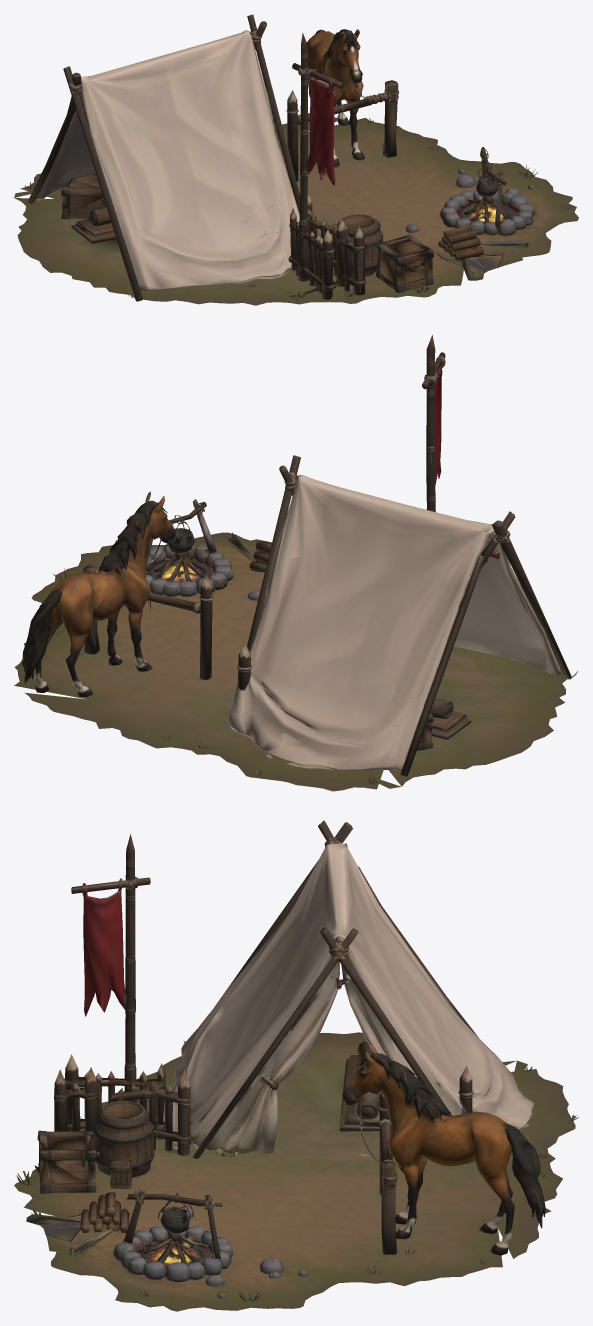
Rendered from camp.glb.
3 renders of one model, top to bottom at view 1: azimuth 30°, elevation 25°; view 2: azimuth 150°, elevation 25°; view 3: azimuth 270°, elevation 25°, orthographic. The views are drawn at different scales.
Bounding box in the file's own units: 0.9663 × 0.4956 × 0.8237.
1 material, 1 textured.
